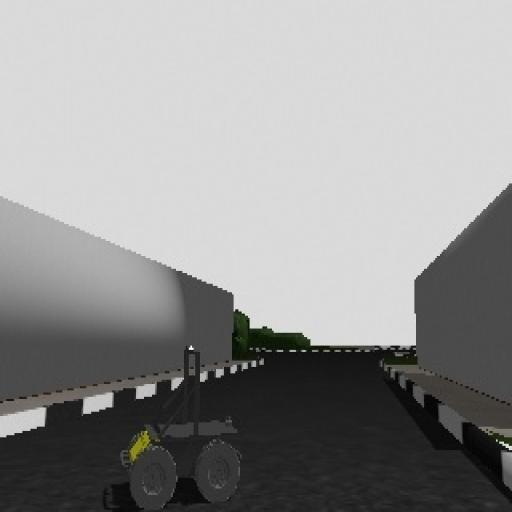huskya200: (100, 342, 244, 508)
